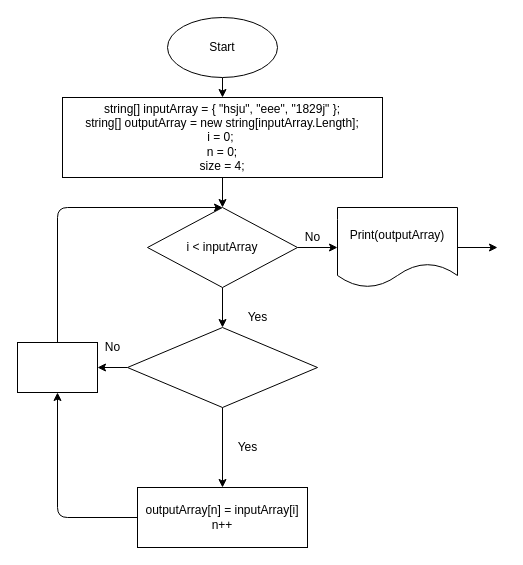
This 523x565 diagram has some shape labels left out. The box of each missing label's shape, as (x1, y1, x2, y2) in pixels:
i++: (16, 342, 98, 392)
inputArray[i].Length < size: (126, 326, 318, 408)
